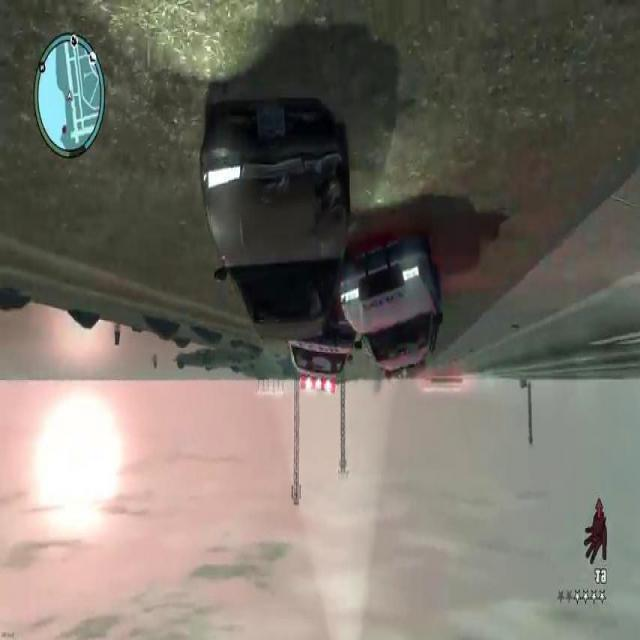moderate: (290, 220, 445, 407)
